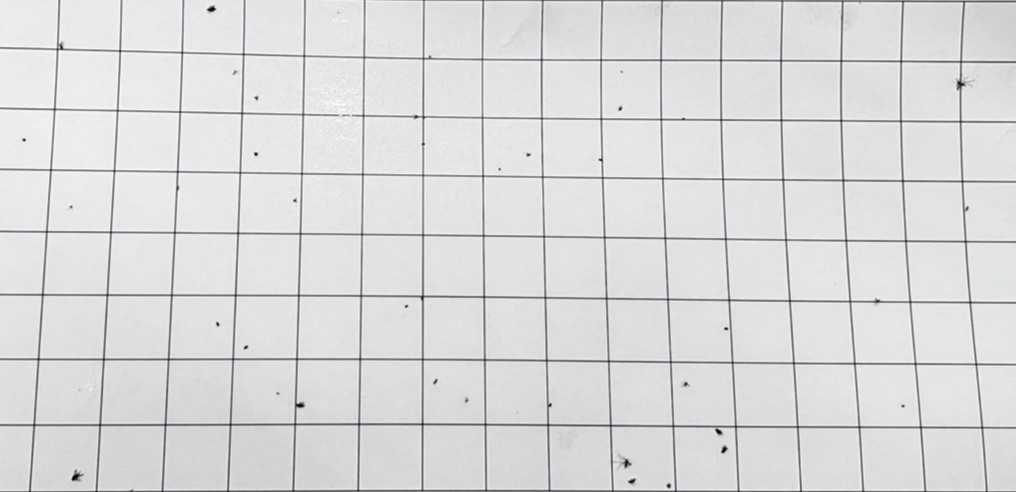test: (952, 72, 977, 96), (616, 454, 632, 469), (69, 467, 84, 483), (203, 2, 218, 16), (719, 443, 730, 456), (293, 400, 306, 410), (424, 52, 437, 62), (713, 426, 724, 437), (680, 379, 691, 390), (229, 67, 240, 78), (56, 40, 66, 52), (664, 480, 674, 492), (872, 296, 882, 307), (626, 477, 637, 487), (430, 377, 441, 387), (616, 104, 626, 114), (252, 93, 262, 103), (546, 399, 556, 409), (410, 112, 420, 122), (290, 196, 299, 206), (462, 396, 471, 406), (899, 401, 908, 411), (962, 203, 971, 212), (172, 183, 181, 192), (523, 150, 532, 159), (252, 149, 260, 159), (401, 301, 409, 311), (722, 324, 731, 332), (213, 319, 221, 328), (241, 343, 250, 351), (20, 136, 29, 144), (67, 203, 76, 211), (418, 293, 426, 302), (272, 390, 281, 398), (419, 141, 429, 147), (496, 166, 503, 173), (598, 156, 606, 162), (680, 115, 686, 123), (619, 68, 625, 75)
